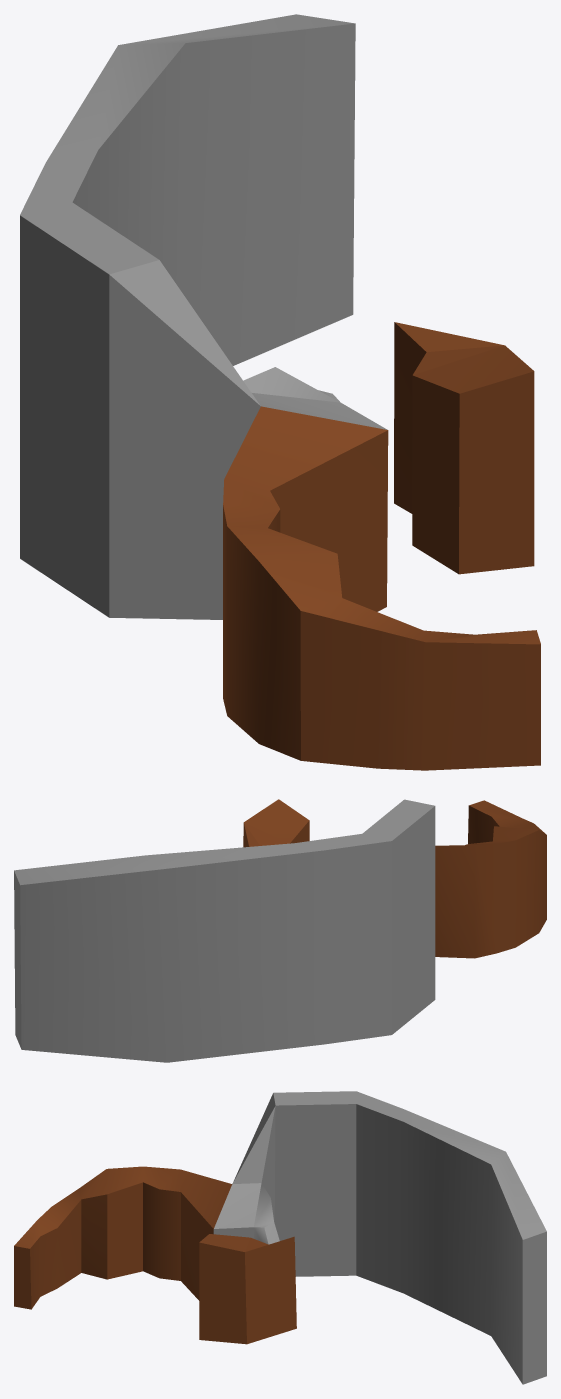
Rendered from muros troncos.FBX.
3 views of the same model, one above another, from view 1: azimuth 30°, elevation 25°; view 2: azimuth 150°, elevation 25°; view 3: azimuth 270°, elevation 25° (orthographic). The views are drawn at different scales.
Visible parts, largest first — view 1: pared, pared 2; view 2: pared, pared 2; view 3: pared, pared 2.
Part boxes in pixels (<box>): pared: <box>20,14,540,770</box>; pared 2: <box>394,322,534,574</box>; pared: <box>14,799,546,1062</box>; pared 2: <box>243,799,309,847</box>; pared: <box>14,1091,546,1384</box>; pared 2: <box>199,1234,296,1344</box>.
Bounding box in the file's own units: 103 × 65.56 × 184.
